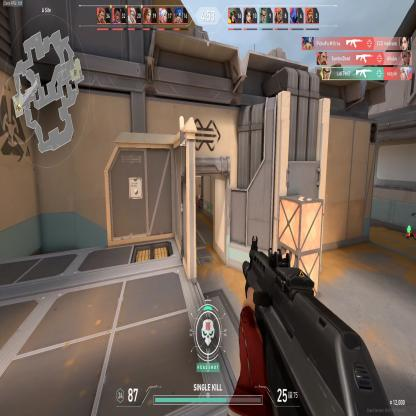enemy: (197, 193, 202, 212)
